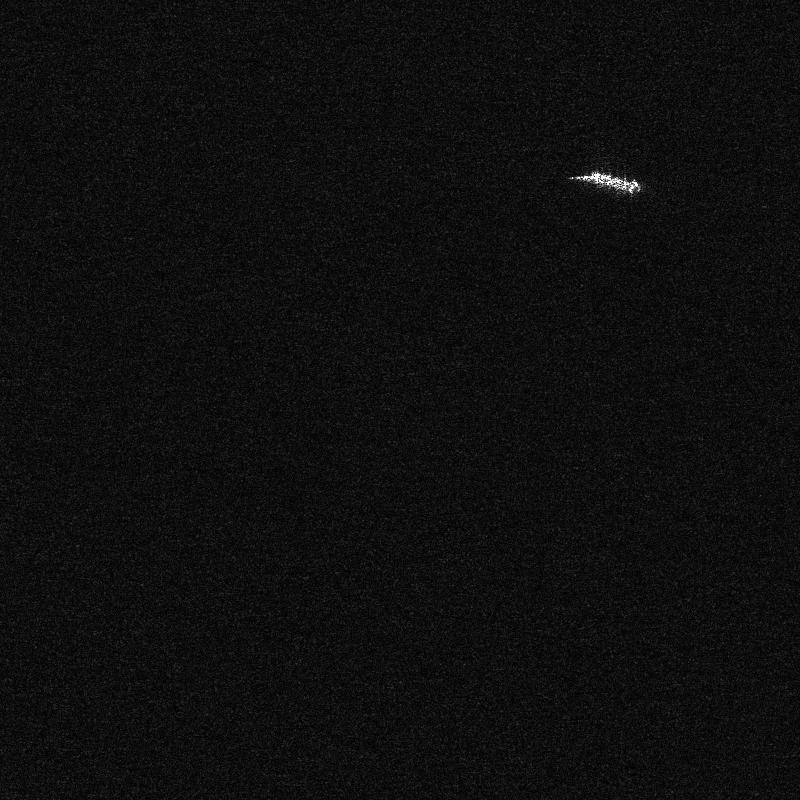ship: (568, 172, 641, 195)
